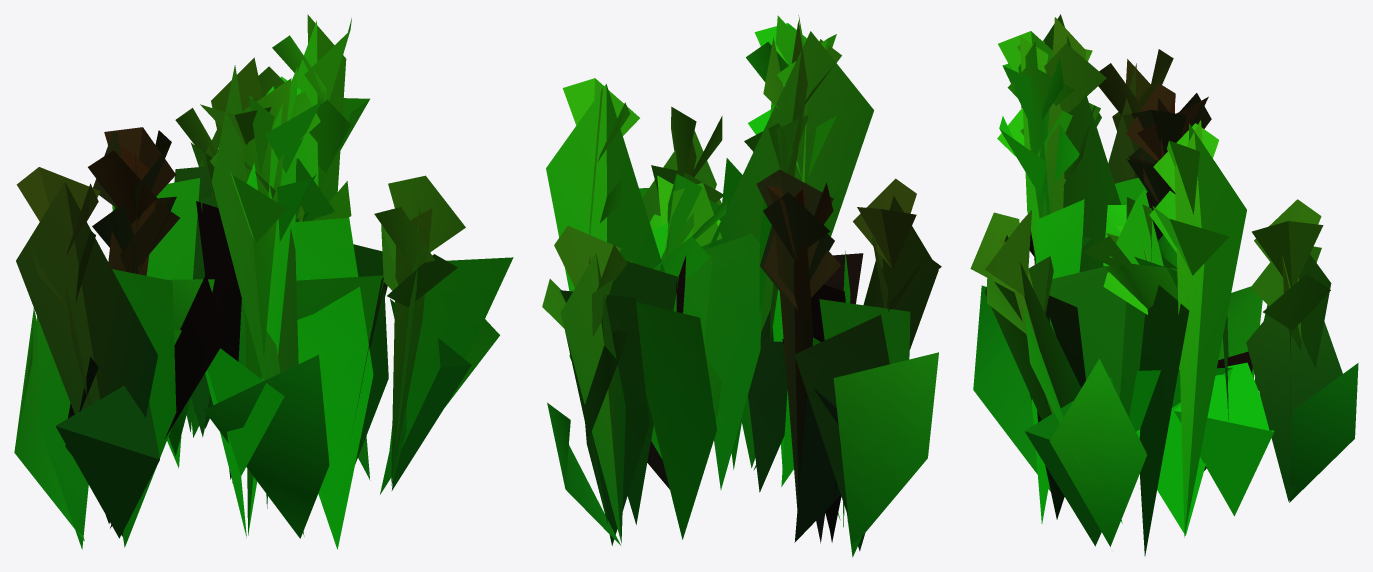
The model's file is Grass_Mesh.fbx.
3 renders of one model, left to right at view 1: azimuth 30°, elevation 25°; view 2: azimuth 150°, elevation 25°; view 3: azimuth 270°, elevation 25°, orthographic. The views are drawn at different scales.
Visible parts, largest first — view 1: Grass_LOD0; view 2: Grass_LOD0; view 3: Grass_LOD0.
Part boxes in pixels (x1,y1,x2,y2): Grass_LOD0: (14,14,513,549); Grass_LOD0: (542,15,941,557); Grass_LOD0: (970,14,1358,556).
Size of the model in its own units: 159 by 175 by 130.
